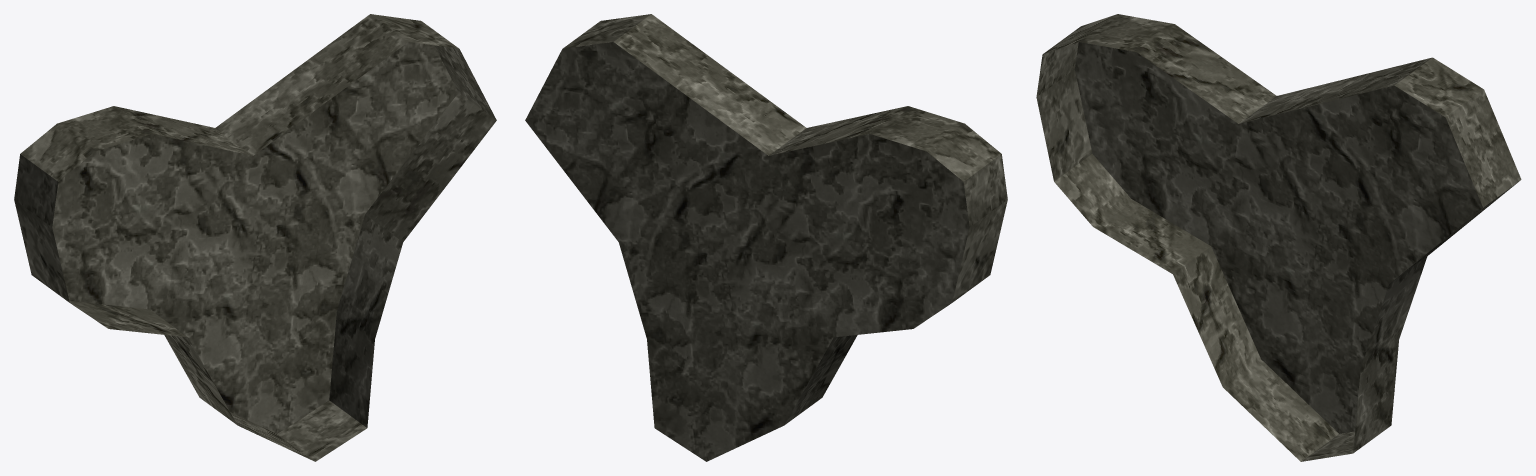
File: TI_Plaster_01.fbx
The picture shows the model from 3 angles, left to right: view 1: azimuth 30°, elevation 25°; view 2: azimuth 150°, elevation 25°; view 3: azimuth 330°, elevation 25°; orthographic projection.
Visible parts, largest first — view 1: TI_Plaster_01; view 2: TI_Plaster_01; view 3: TI_Plaster_01.
Boxes of the visible parts, box(x1,y1,x2,y2) form: TI_Plaster_01: box(14, 14, 496, 461); TI_Plaster_01: box(525, 14, 1007, 461); TI_Plaster_01: box(1036, 14, 1521, 461).
Bounding box in the file's own units: 0.7117 × 0.6079 × 0.1059.
